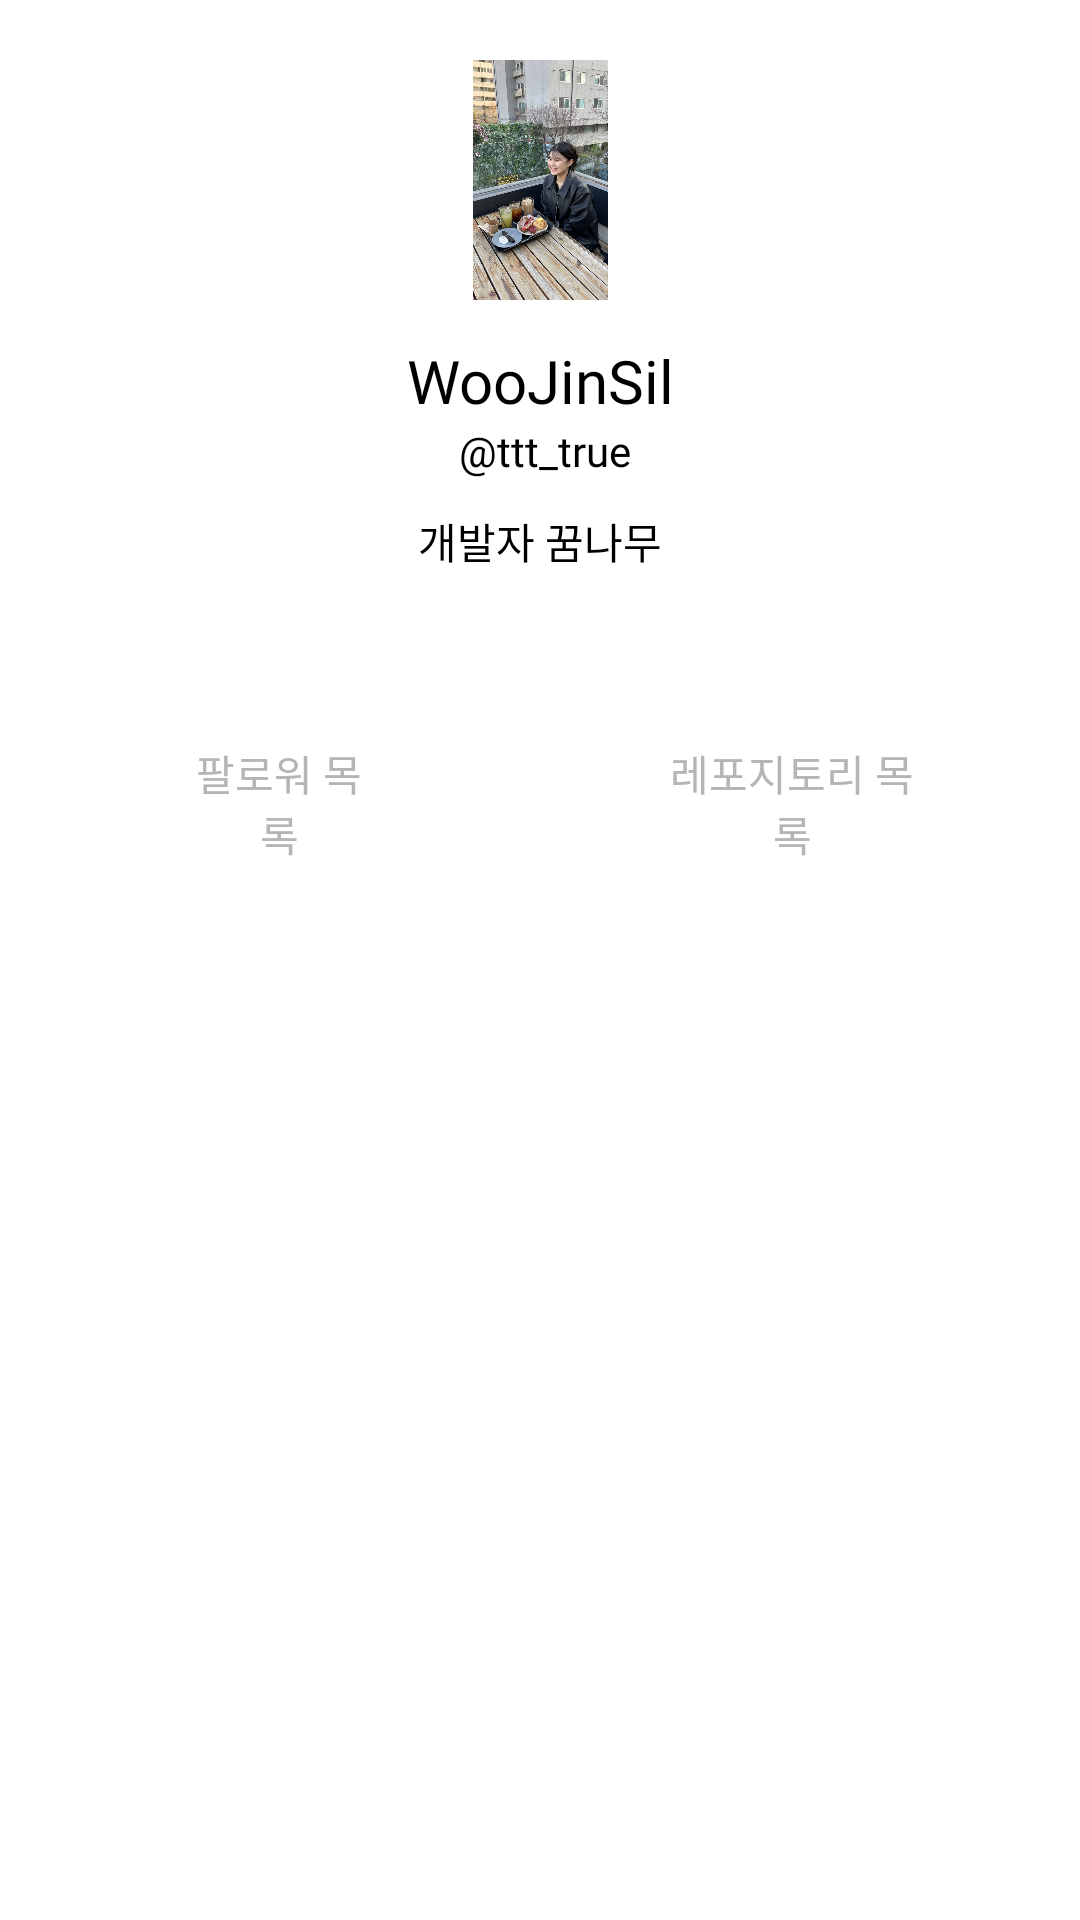

Screen size 1080*1920. Icon name, then its box in pixels as BBox(x1, y1, x2, y2):
selfie true: BBox(473, 60, 608, 300)
